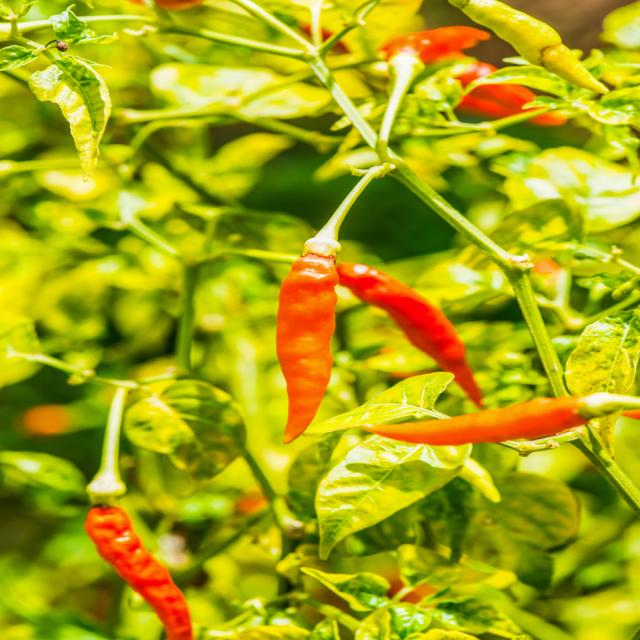Ripe: (337, 264, 482, 407), (84, 506, 195, 639), (277, 254, 339, 443), (365, 396, 588, 445), (379, 26, 489, 64)
Unripe: (448, 0, 609, 93)
